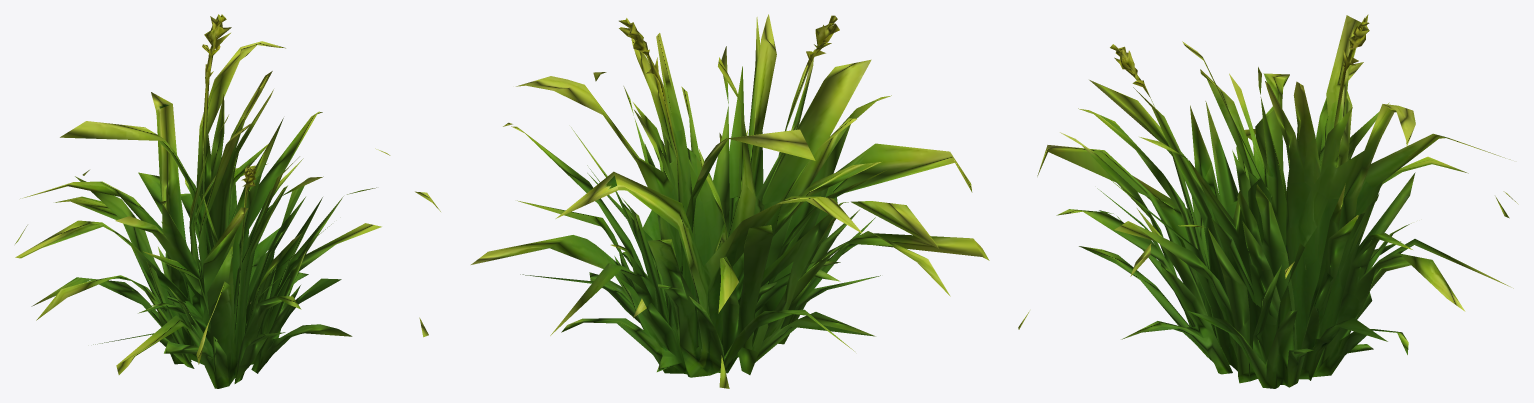
File: env-grass.glb
The picture shows the model from 3 angles, left to right: view 1: azimuth 30°, elevation 25°; view 2: azimuth 150°, elevation 25°; view 3: azimuth 270°, elevation 25°; orthographic projection. The views are drawn at different scales.
Parts seen in each view (by area): view 1: tripo_node_ed0f5027-7649-424d-b2e1-af9e7268dcf1; view 2: tripo_node_ed0f5027-7649-424d-b2e1-af9e7268dcf1; view 3: tripo_node_ed0f5027-7649-424d-b2e1-af9e7268dcf1.
Part boxes in pixels (x1,y1,x2,y2): tripo_node_ed0f5027-7649-424d-b2e1-af9e7268dcf1: (15,14,440,388); tripo_node_ed0f5027-7649-424d-b2e1-af9e7268dcf1: (471,14,989,388); tripo_node_ed0f5027-7649-424d-b2e1-af9e7268dcf1: (1018,14,1518,388).
Size of the model in its own units: 0.8954 by 0.7091 by 0.87.
Materials: 1 (1 with a texture image).
